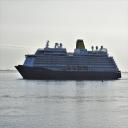cruises: (14, 38, 124, 84)
